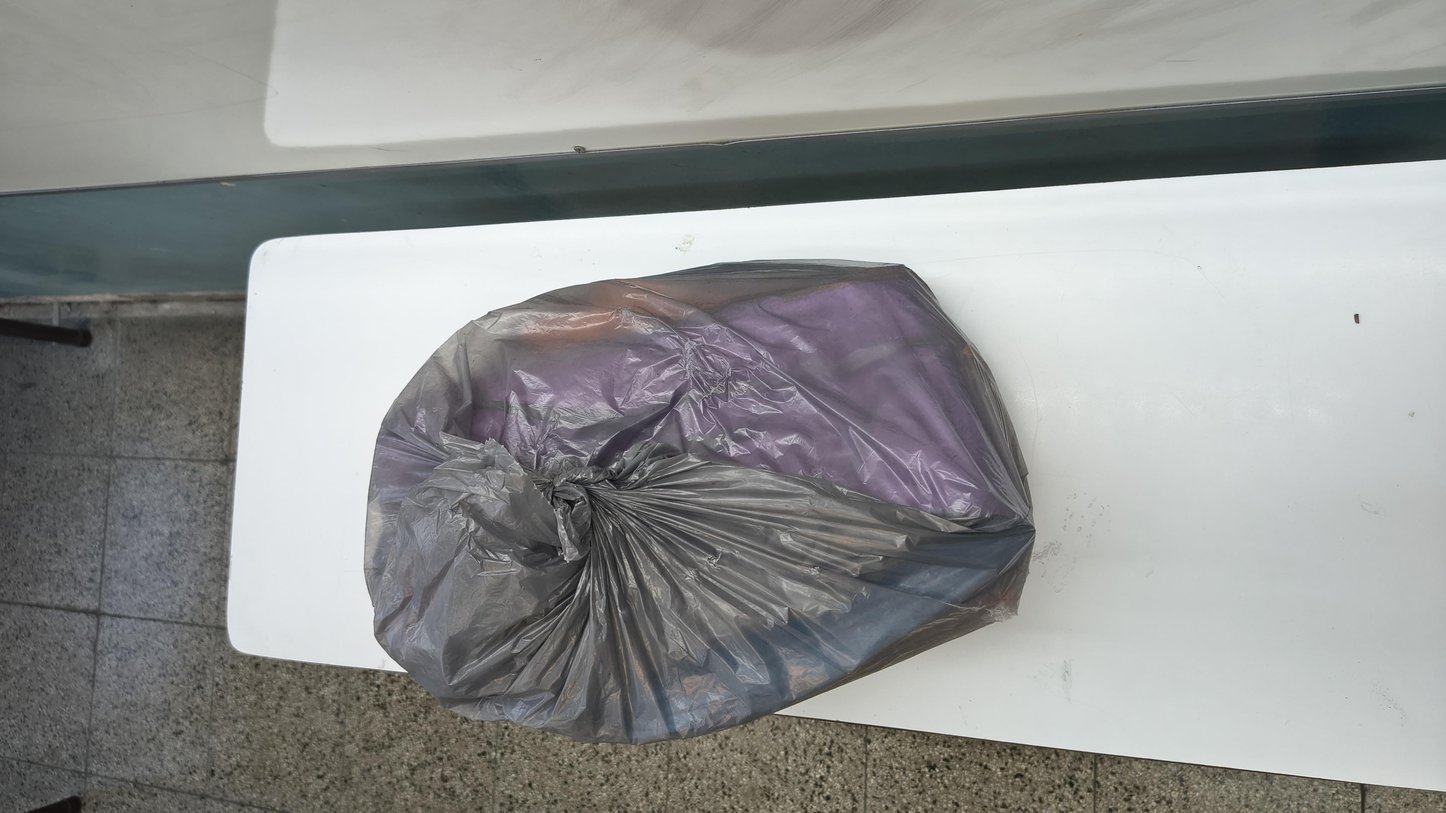Garbage: (31, 141, 1042, 601)
